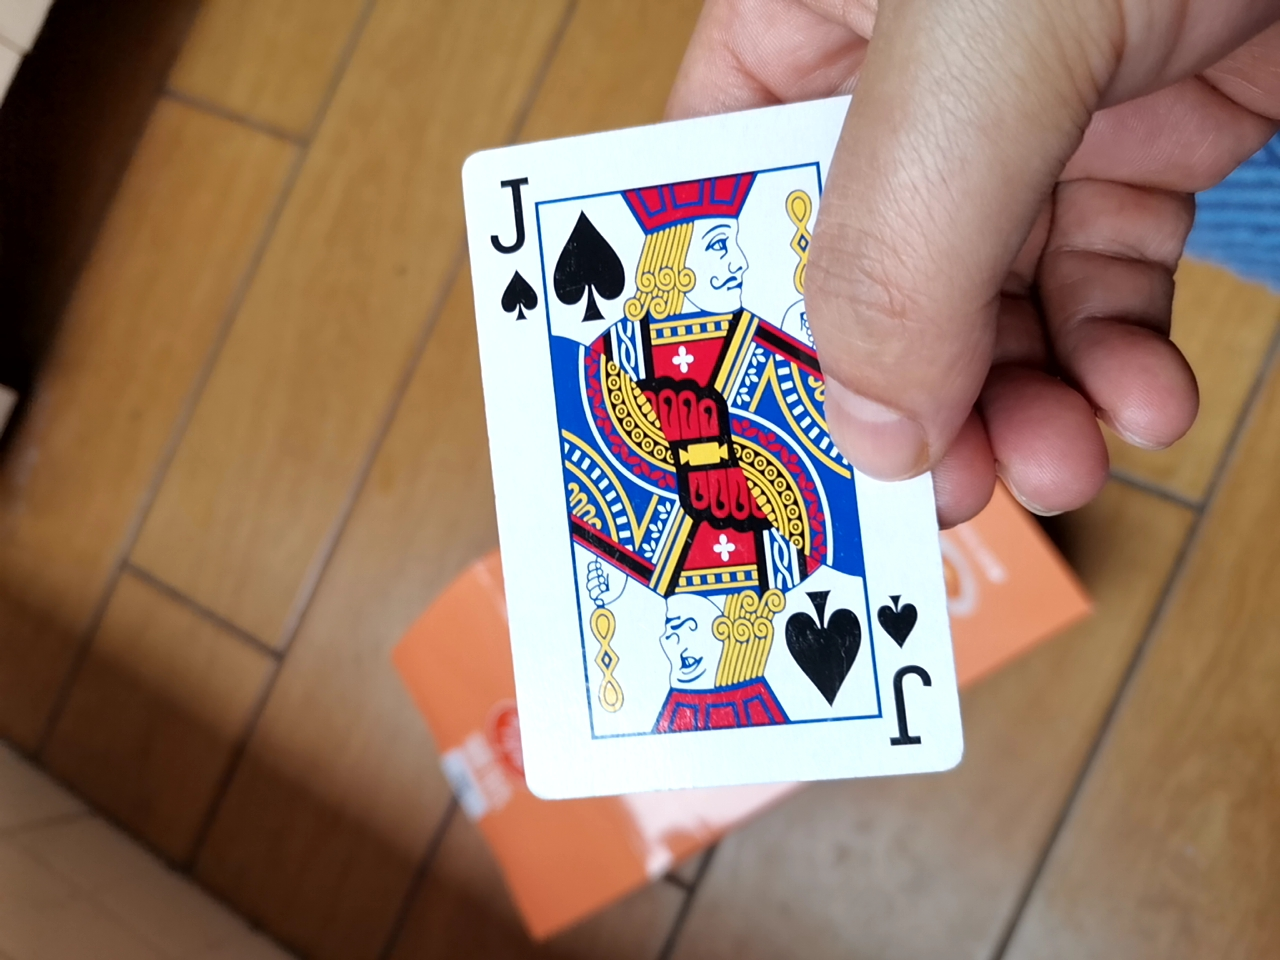ht j: (459, 94, 946, 833)
